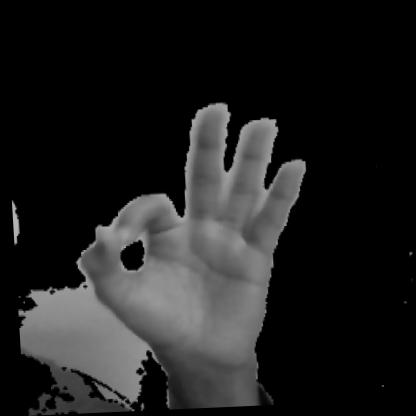ok: (59, 85, 320, 380)
